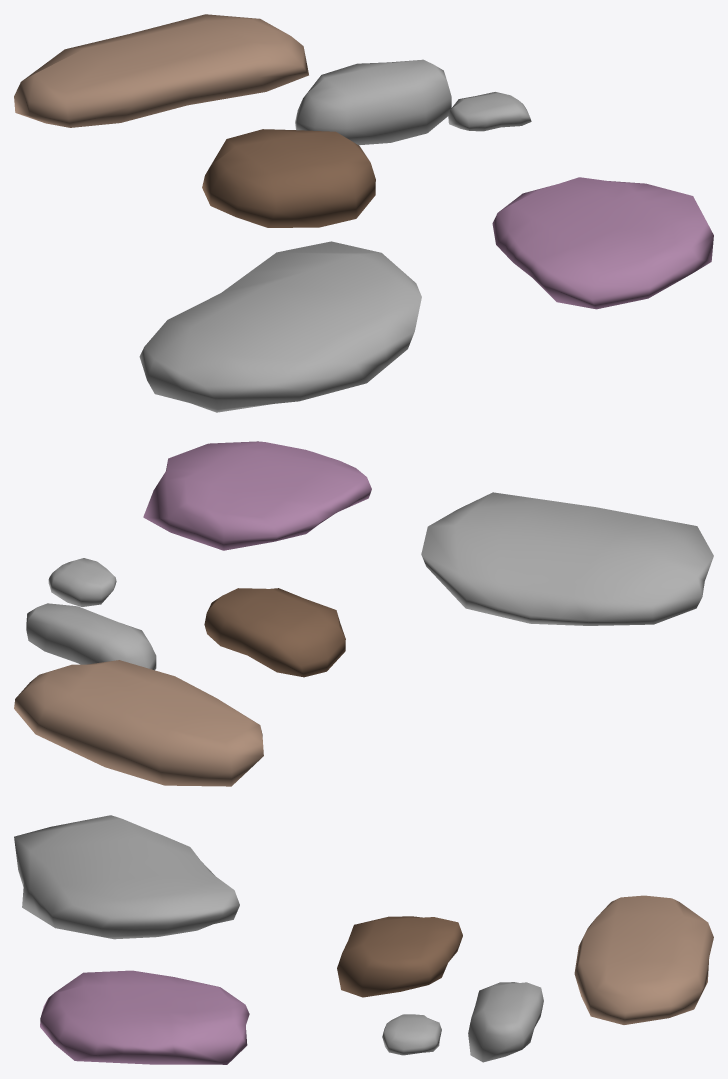
The model's file is Piedras.fbx.
The picture shows the model from 3 angles, top to bottom: view 1: azimuth 30°, elevation 25°; view 2: azimuth 150°, elevation 25°; view 3: azimuth 270°, elevation 25°; orthographic projection. The views are drawn at different scales.
Parts seen in each view (by area): view 1: pCube25; view 2: pCube25; view 3: pCube25.
Boxes of the visible parts, x1=… form: pCube25: x1=14, y1=14, x2=713, y2=412; pCube25: x1=14, y1=441, x2=713, y2=786; pCube25: x1=14, y1=815, x2=713, y2=1064.
Size of the model in its own units: 146 by 16.51 by 177.
